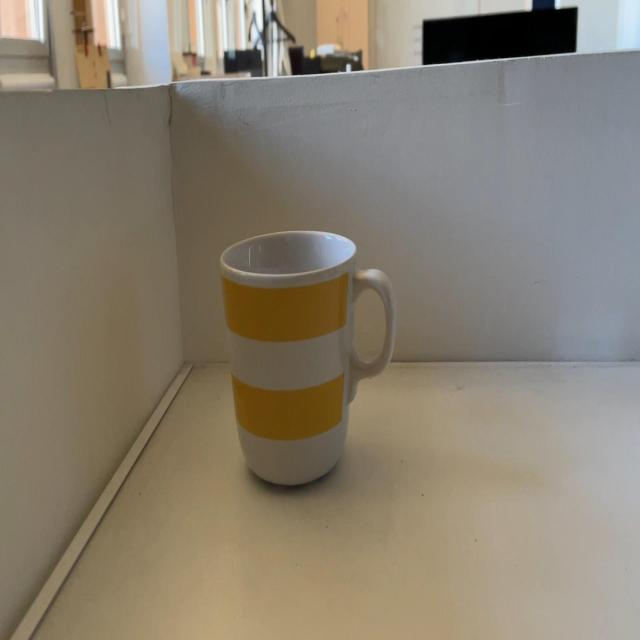cup: (221, 231, 399, 491)
